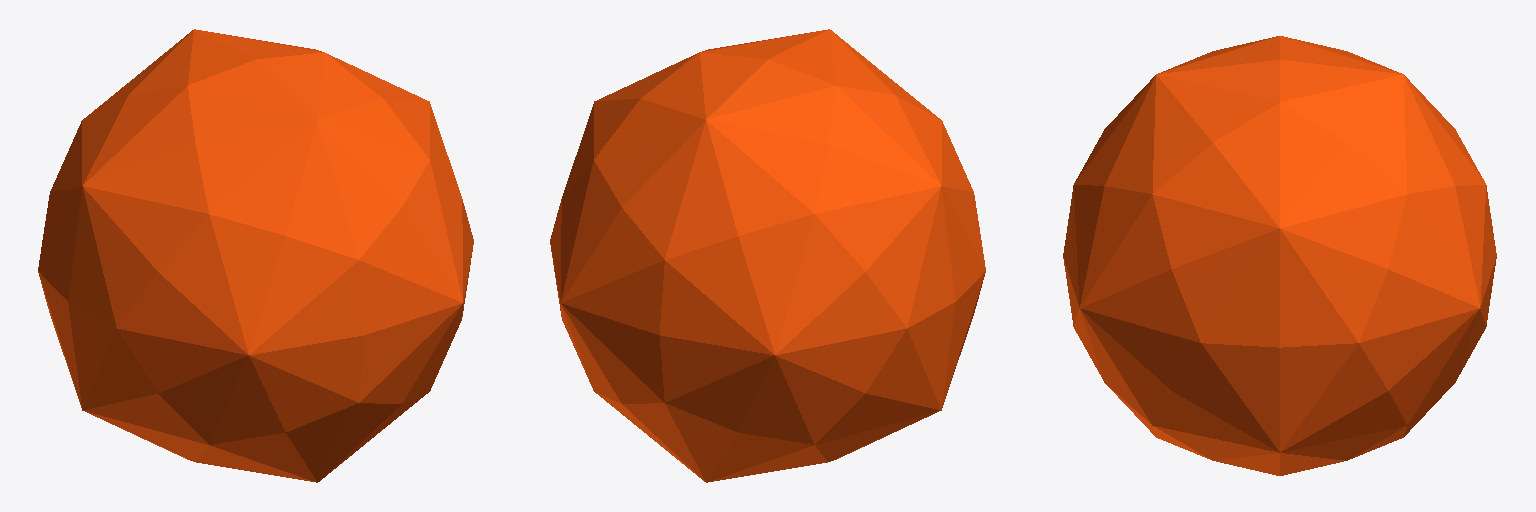
File: DisdyakisTriacontahedron.obj
3 renders of one model, left to right at view 1: azimuth 30°, elevation 25°; view 2: azimuth 150°, elevation 25°; view 3: azimuth 270°, elevation 25°, orthographic.
Size of the model in its own units: 7.61 by 7.61 by 7.61.